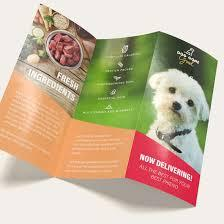paper: (0, 5, 218, 206), (0, 4, 218, 204)
